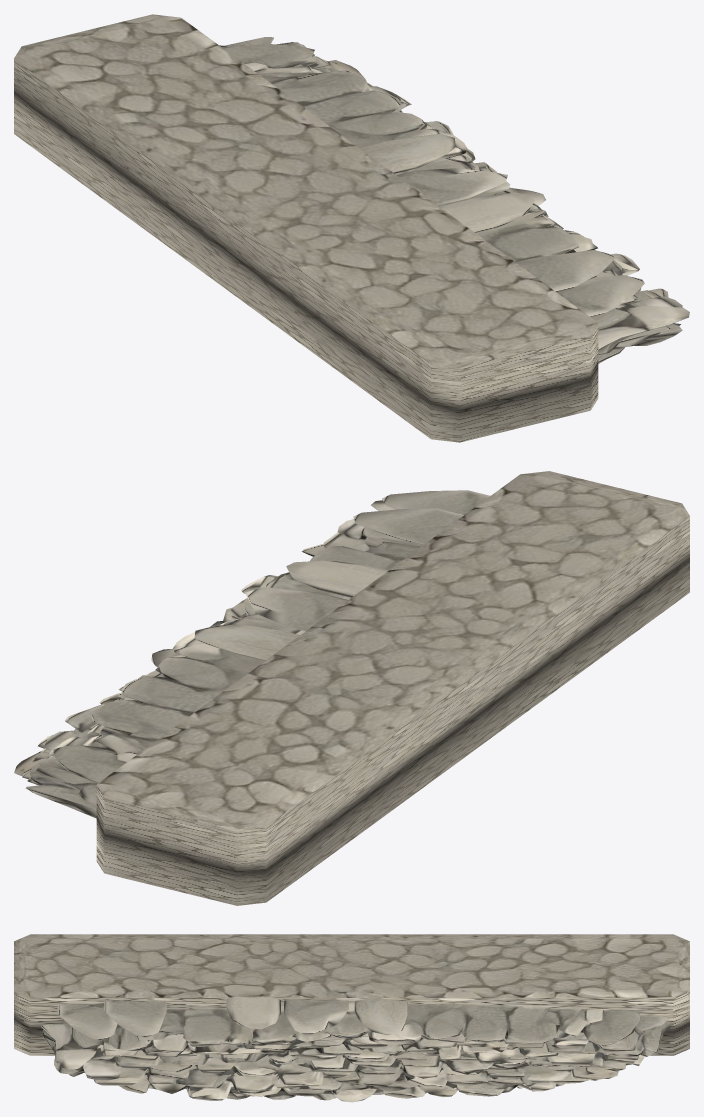
3 views of the same model, one above another, from view 1: azimuth 30°, elevation 25°; view 2: azimuth 150°, elevation 25°; view 3: azimuth 270°, elevation 25° (orthographic). The views are drawn at different scales.
Size of the model in its own units: 0.4224 by 0.1 by 0.9995.
1 material, 1 textured.
